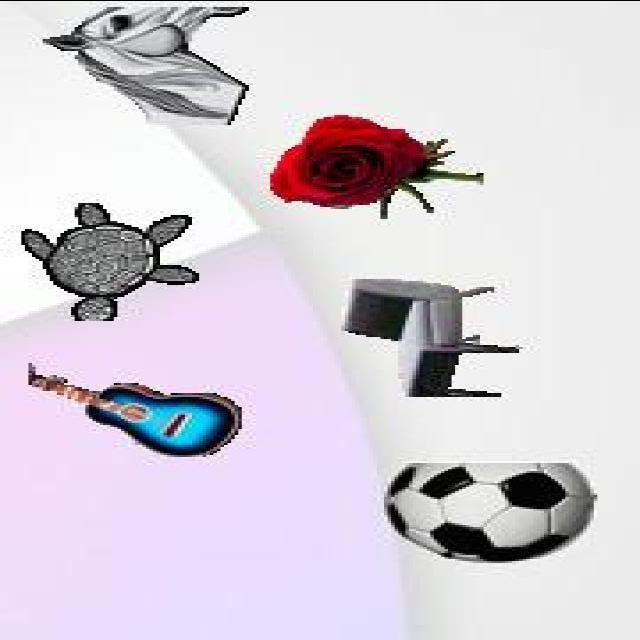Other Objects: (268, 114, 484, 218)
